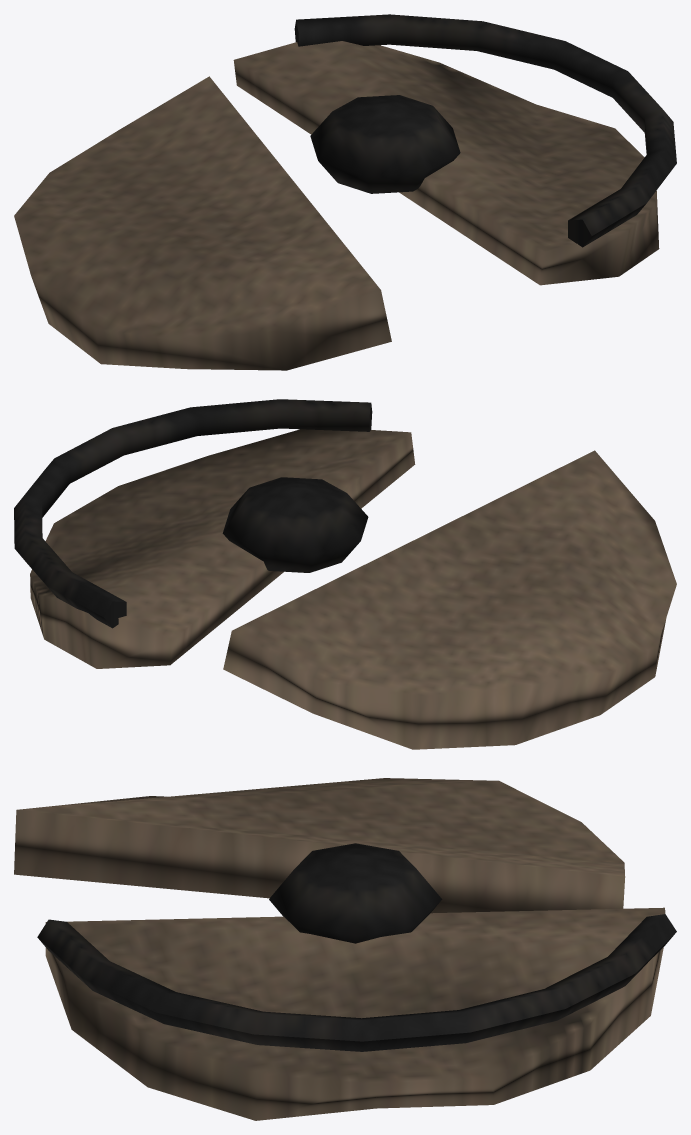
File: item_split_shield.glb
3 views of the same model, one above another, from view 1: azimuth 30°, elevation 25°; view 2: azimuth 150°, elevation 25°; view 3: azimuth 270°, elevation 25° (orthographic). The views are drawn at different scales.
Parts seen in each view (by area): view 1: item_split_shield; view 2: item_split_shield; view 3: item_split_shield.
Part boxes in pixels (x1,y1,x2,y2): item_split_shield: [14, 14, 676, 370]; item_split_shield: [14, 399, 676, 749]; item_split_shield: [14, 778, 676, 1120].
Bounding box in the file's own units: 0.8288 × 0.1985 × 0.7152.
Materials: 1 (1 with a texture image).
